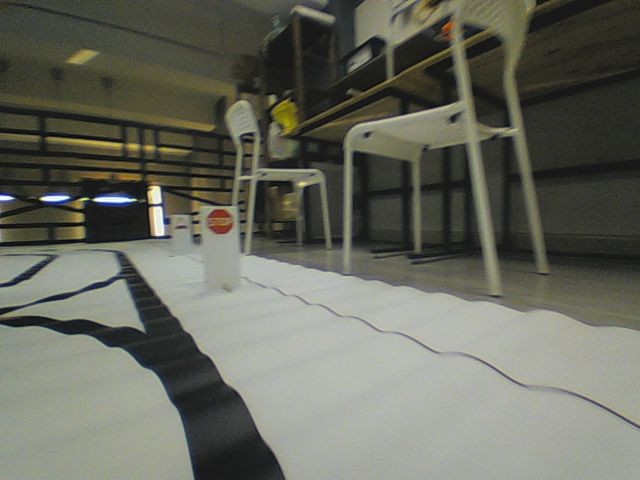Stop: (206, 207, 234, 235)
